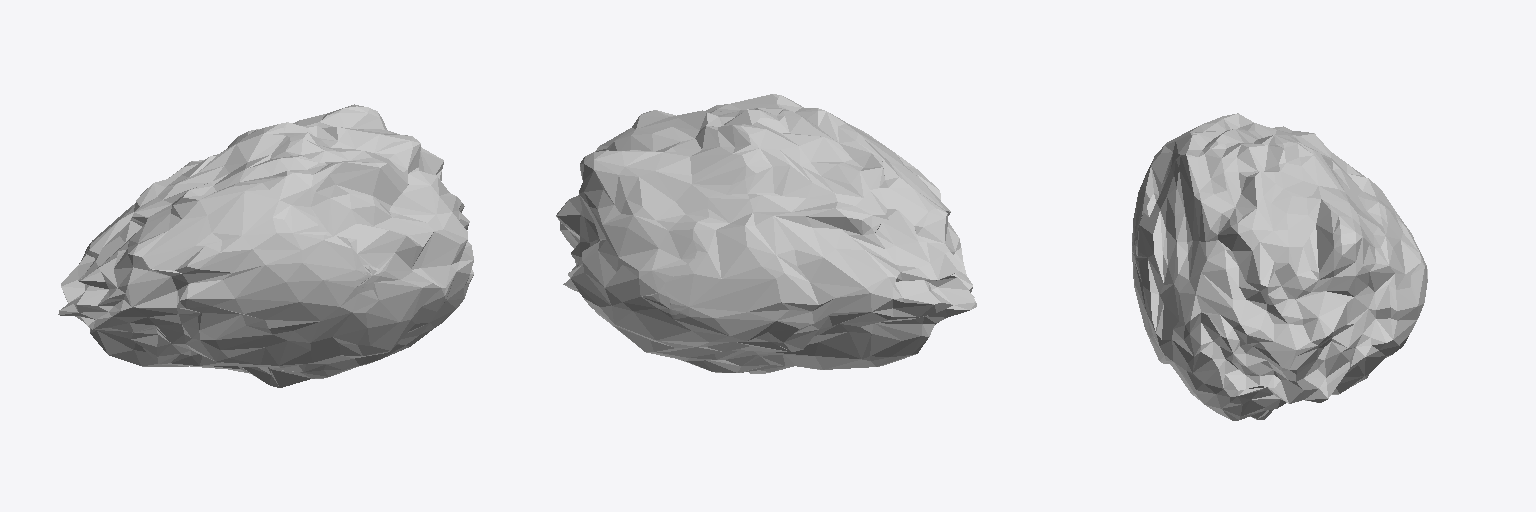
File: asteroid_2.obj
3 views of the same model, side by side, from view 1: azimuth 30°, elevation 25°; view 2: azimuth 150°, elevation 25°; view 3: azimuth 270°, elevation 25° (orthographic).
Visible parts, largest first — view 1: Sphere01 initialShadingGroup initialShadingGroup1 polySurface1; view 2: Sphere01 initialShadingGroup initialShadingGroup1 polySurface1; view 3: Sphere01 initialShadingGroup initialShadingGroup1 polySurface1.
Boxes of the visible parts, box(x1,y1,x2,y2) form: Sphere01 initialShadingGroup initialShadingGroup1 polySurface1: box(58, 104, 473, 387); Sphere01 initialShadingGroup initialShadingGroup1 polySurface1: box(556, 94, 976, 373); Sphere01 initialShadingGroup initialShadingGroup1 polySurface1: box(1132, 113, 1427, 420).
Size of the model in its own units: 6.75 by 4 by 4.26.